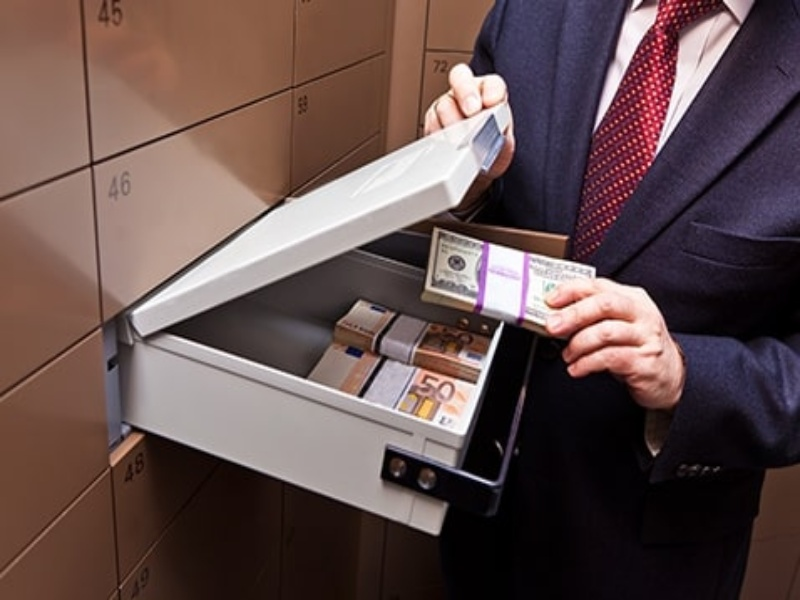cash: (421, 227, 597, 337), (305, 342, 478, 432), (333, 298, 493, 385)
person: (423, 1, 800, 600)
